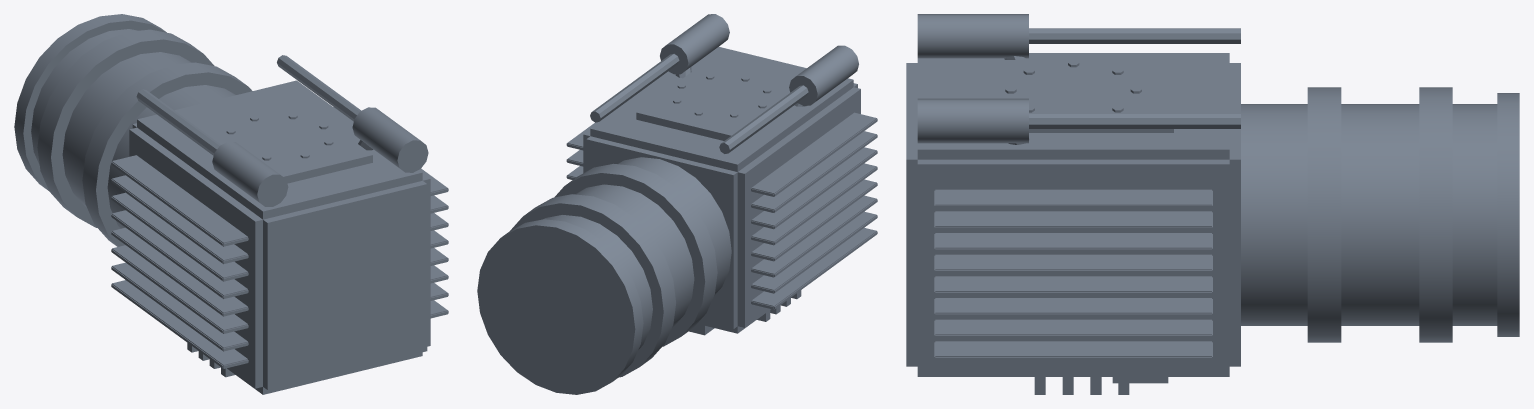
The model's file is ion_cannon_housing.glb.
3 views of the same model, side by side, from view 1: azimuth 30°, elevation 25°; view 2: azimuth 150°, elevation 25°; view 3: azimuth 270°, elevation 25° (orthographic). The views are drawn at different scales.
Visible parts, largest first — view 1: ion_cannon_housing; view 2: ion_cannon_housing; view 3: ion_cannon_housing.
Boxes of the visible parts, x1,y1,x2,y2 form: ion_cannon_housing: [14, 14, 448, 394]; ion_cannon_housing: [477, 14, 877, 394]; ion_cannon_housing: [906, 14, 1519, 394].
Bounding box in the file's own units: 0.58 × 0.62 × 1.1.
